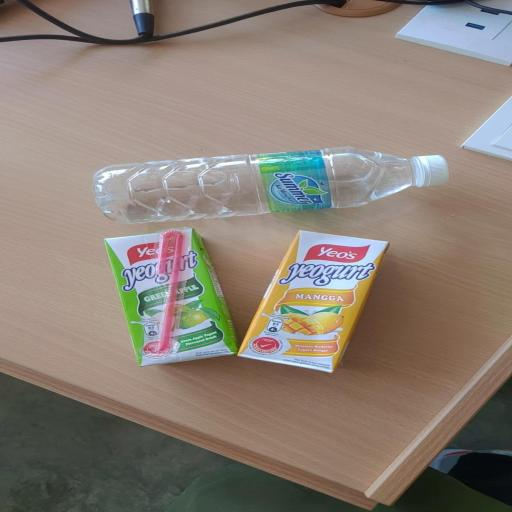plastic bottle: (93, 146, 416, 223)
plastic bottle cap: (413, 154, 454, 186)
